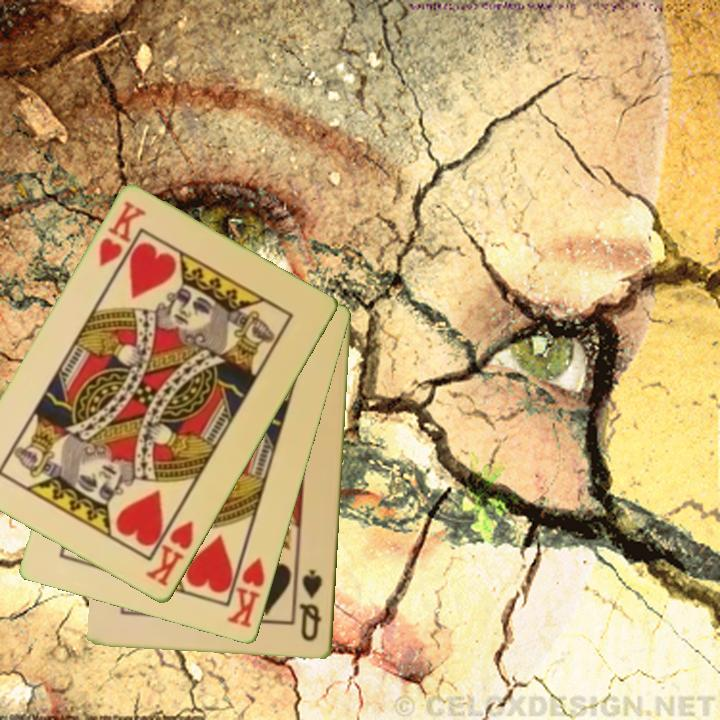Kh: (142, 507, 197, 590), (95, 198, 150, 271), (224, 546, 269, 631)
Qs: (297, 566, 326, 645)
